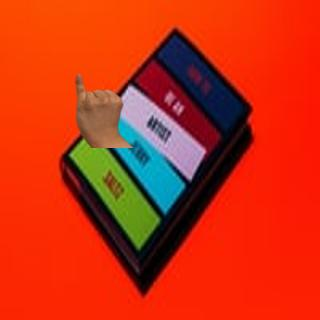FINE: (68, 70, 128, 143)
